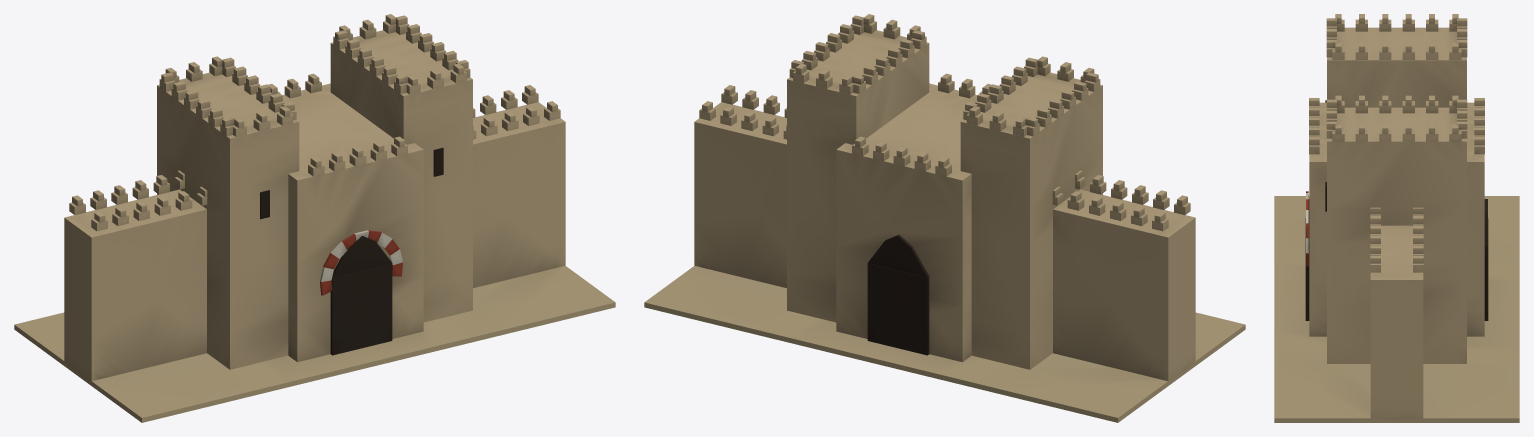
File: puerta-del-puente.glb
The picture shows the model from 3 angles, left to right: view 1: azimuth 30°, elevation 25°; view 2: azimuth 150°, elevation 25°; view 3: azimuth 270°, elevation 25°; orthographic projection. The views are drawn at different scales.
Visible parts, largest first — view 1: p1_gate, p0_ground; view 2: p1_gate, p0_ground; view 3: p1_gate, p0_ground.
Boxes of the visible parts, box(x1,y1,x2,y2) form: p1_gate: box(157, 14, 472, 369); p0_ground: box(14, 85, 615, 422); p1_gate: box(787, 14, 1102, 369); p0_ground: box(644, 85, 1245, 422); p1_gate: box(1305, 14, 1488, 363); p0_ground: box(1274, 196, 1519, 422).
Bounding box in the file's own units: 30.02 × 15.14 × 14.
